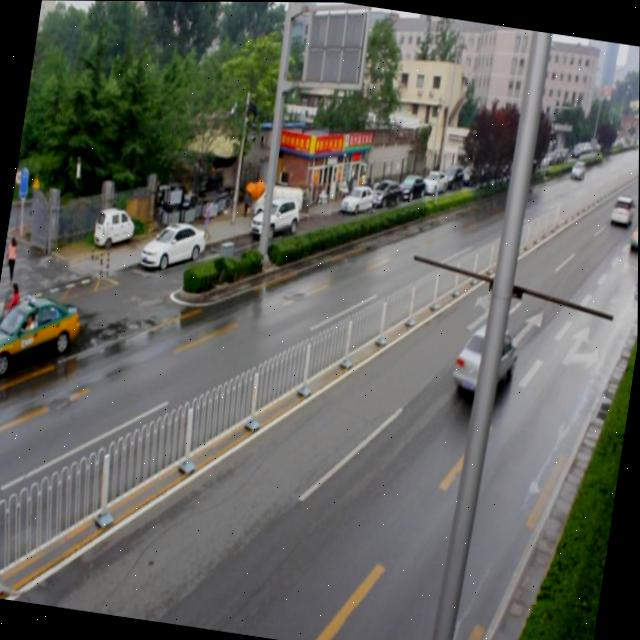car: (451, 319, 520, 403), (628, 215, 639, 252)
